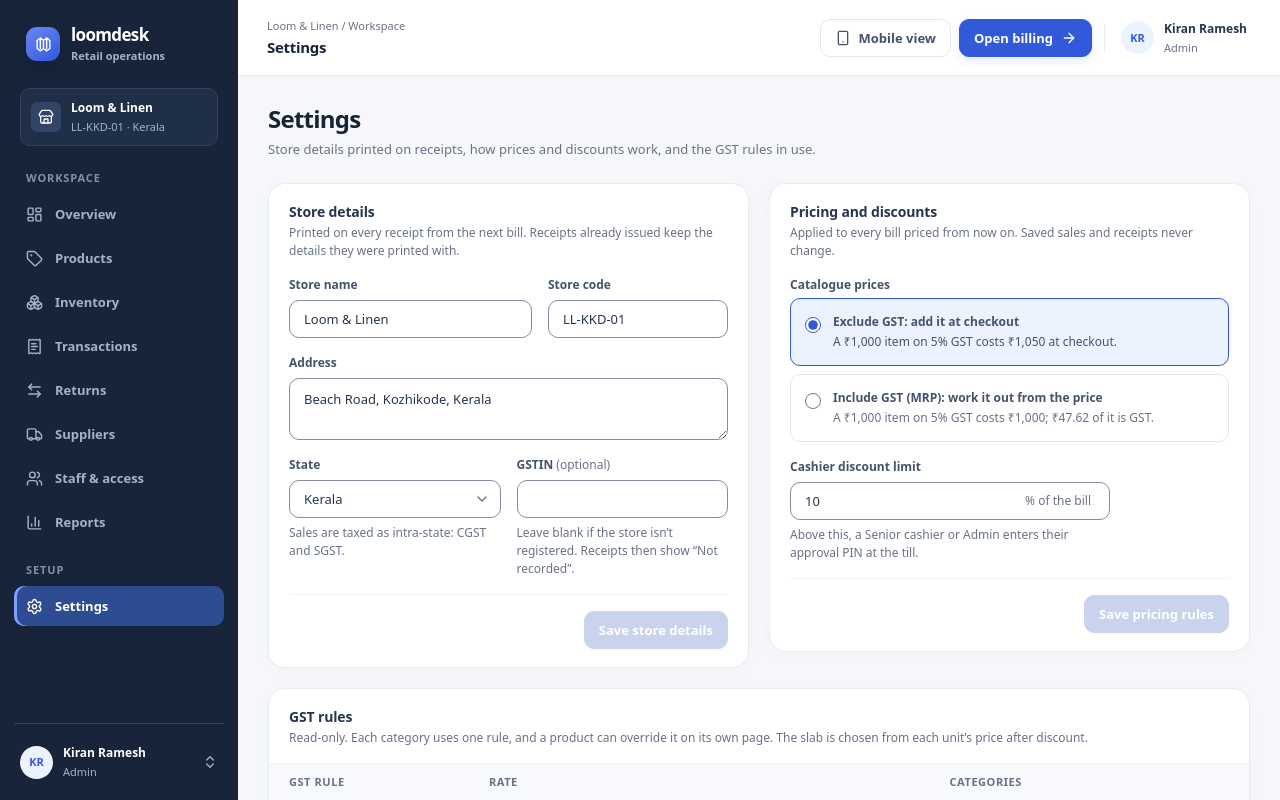
Test: settings › saves only the store details that changed
This screenshot has width=1280, height=800.
Replace the text in the field labelled "Store name" with "Loom & Linen Calicut" at (410, 319), box x1=290 y1=301 x2=531 y2=337
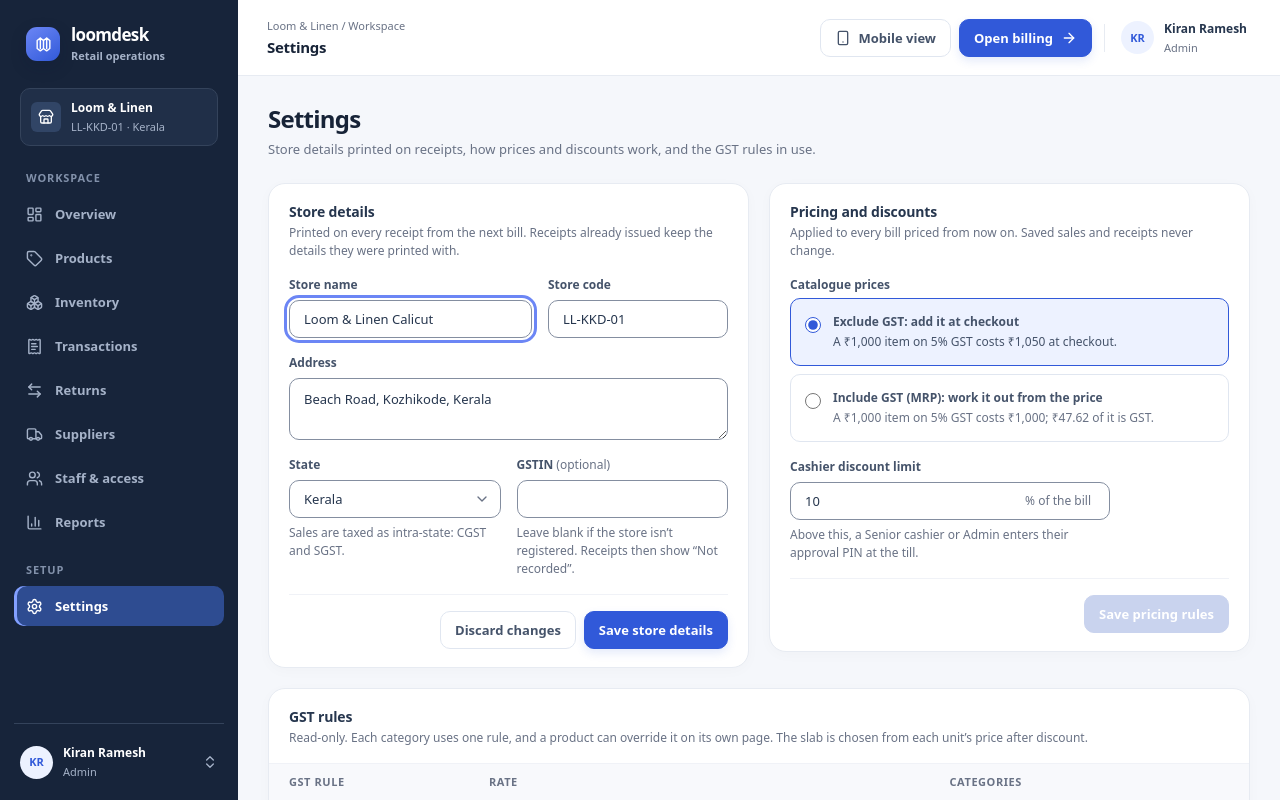
Type "32aaaaa0000a1zb" into the field labelled "GSTIN (optional)" at (622, 499), box x1=518 y1=481 x2=727 y2=517
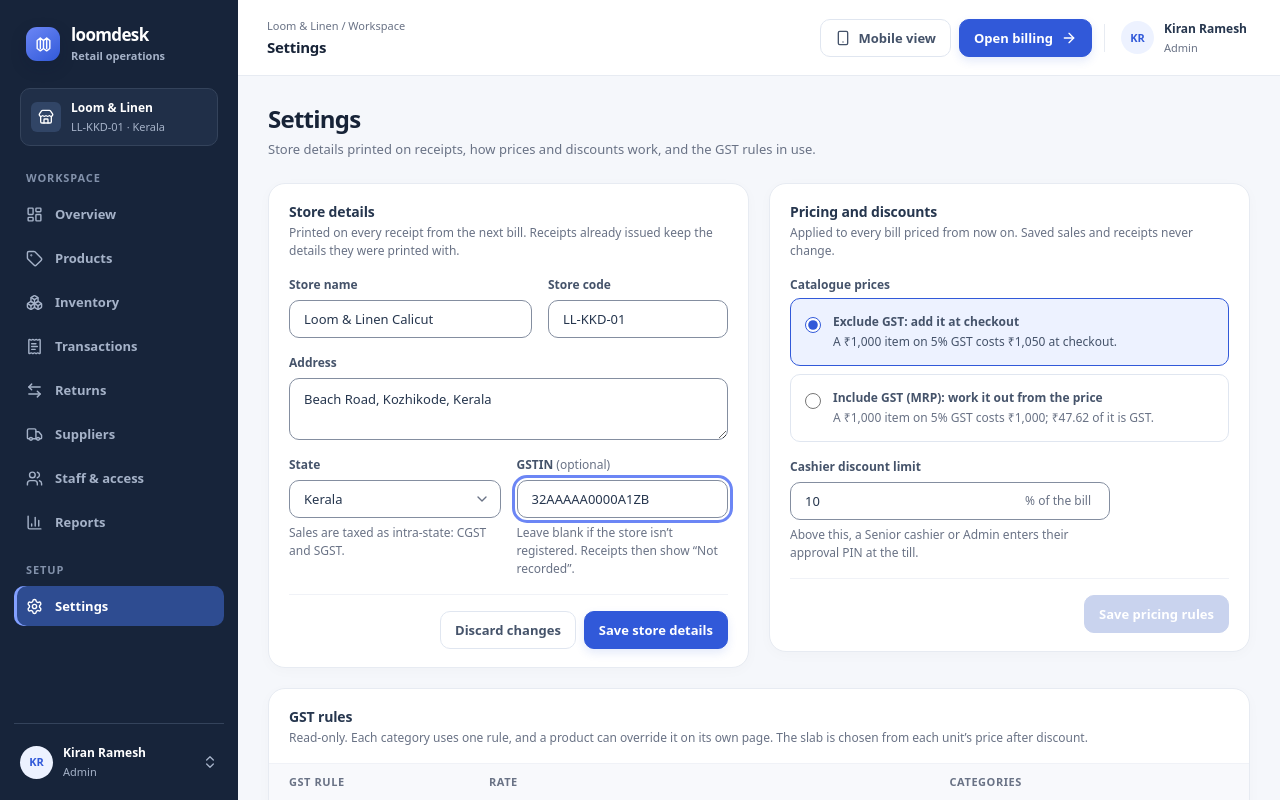
Click the button "Save store details" at (656, 630), box x1=584 y1=611 x2=728 y2=649
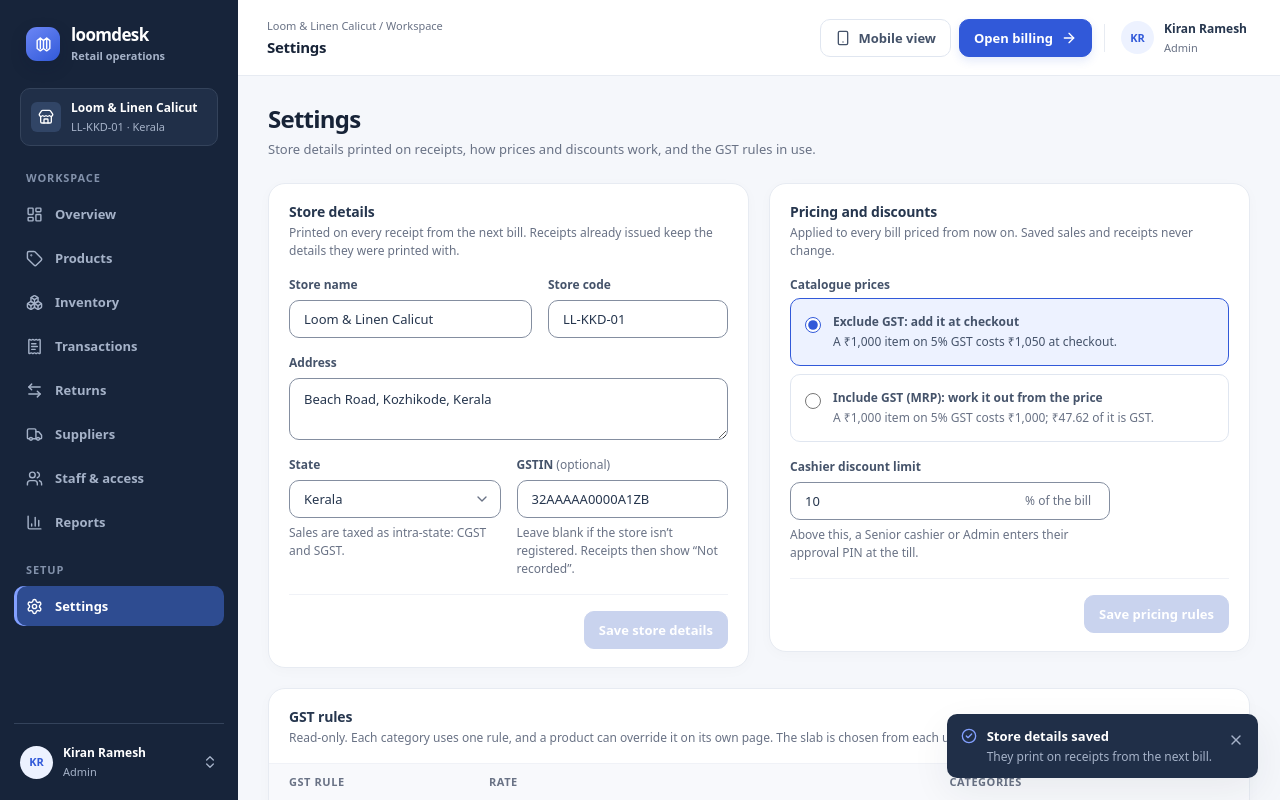
Check: the text "Store details saved" is shown, box x1=987 y1=727 x2=1109 y2=745
Check: the button "Save store details" is disabled, box x1=584 y1=611 x2=728 y2=649
